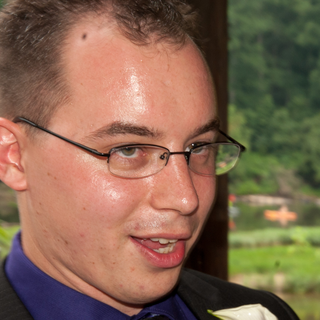eye: (107, 139, 148, 163), (181, 138, 213, 159)
